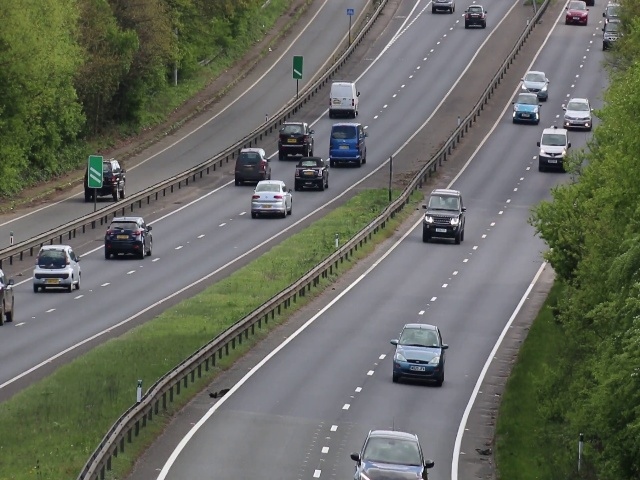car: (352, 430, 427, 480), (394, 321, 444, 388), (29, 244, 82, 292), (423, 188, 464, 244), (102, 216, 155, 259), (329, 121, 368, 167), (252, 180, 291, 219), (277, 118, 313, 159), (96, 158, 127, 199), (540, 127, 568, 172), (235, 148, 271, 181), (327, 81, 359, 118), (293, 159, 329, 190), (563, 99, 593, 131), (513, 92, 539, 126), (565, 1, 590, 26), (522, 69, 548, 91), (464, 7, 487, 30)
